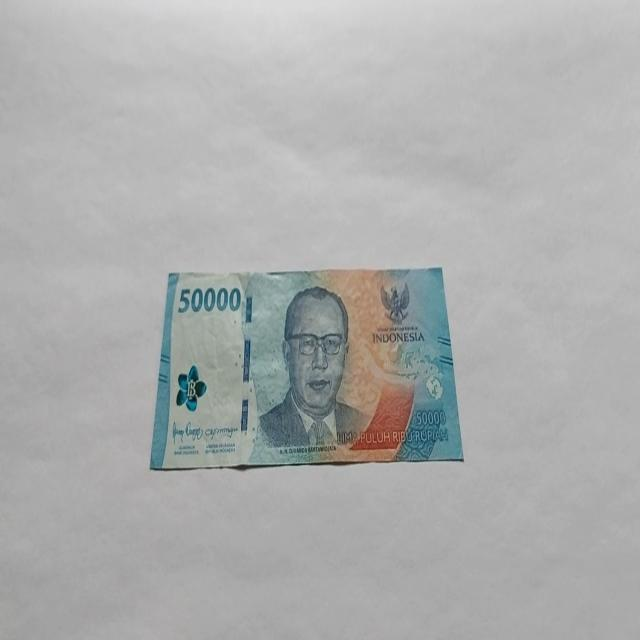lima puluh ribu rupiah: (149, 265, 464, 471), (256, 284, 372, 454)
